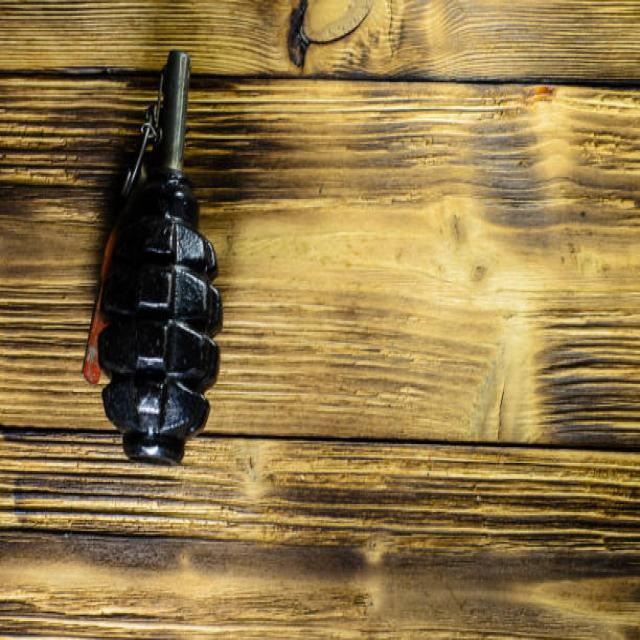grenade: (73, 46, 233, 471)
